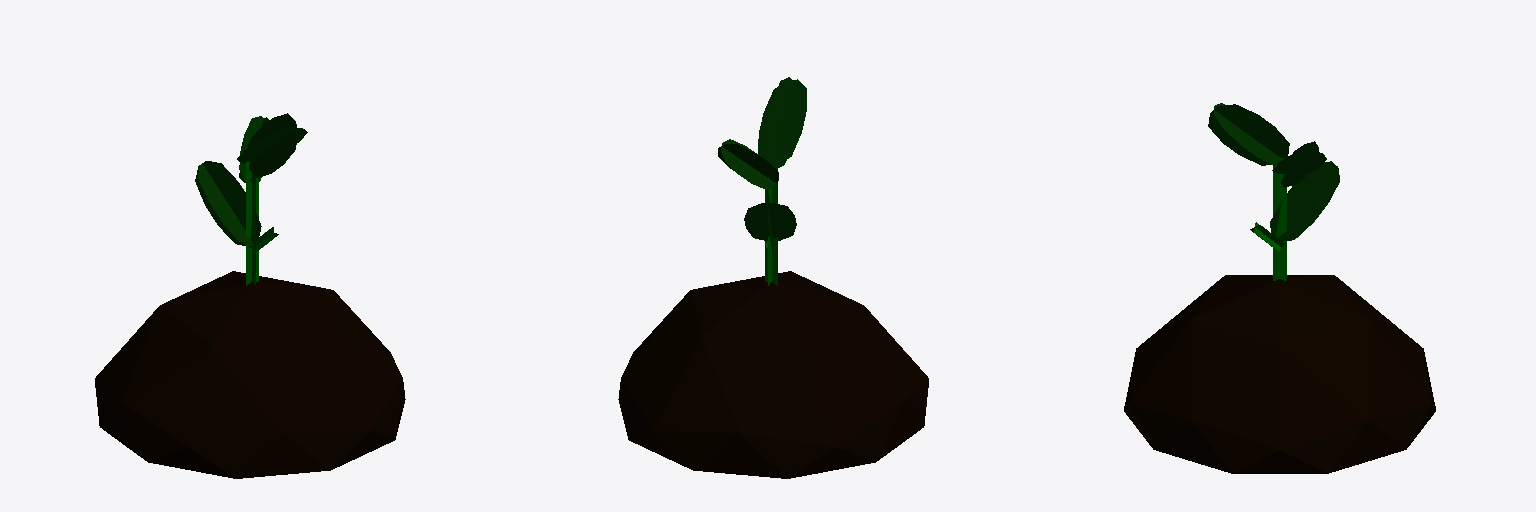
Rendered from potato.obj.
3 views of the same model, side by side, from view 1: azimuth 30°, elevation 25°; view 2: azimuth 150°, elevation 25°; view 3: azimuth 270°, elevation 25° (orthographic).
Parts seen in each view (by area): view 1: Icosphere, Plane.004, Plane.003, Plane.001; view 2: Icosphere, Plane.003, Plane.004, Plane.005, Plane.001; view 3: Icosphere, Plane.003, Plane.004, Plane.005, Plane.001.
Part boxes in pixels (x1,y1,x2,y2): Icosphere: (95,271,405,478); Plane.004: (195,161,261,245); Plane.003: (237,113,307,177); Plane.001: (246,162,258,285); Icosphere: (618,271,928,478); Plane.003: (758,77,806,167); Plane.004: (744,190,796,253); Plane.005: (718,139,778,189); Plane.001: (765,159,777,285); Icosphere: (1124,275,1435,473); Plane.003: (1208,103,1289,166); Plane.004: (1270,161,1339,241); Plane.005: (1272,141,1326,187); Plane.001: (1273,158,1286,280).
Bounding box in the file's own units: 0.3611 × 0.4023 × 0.3642.